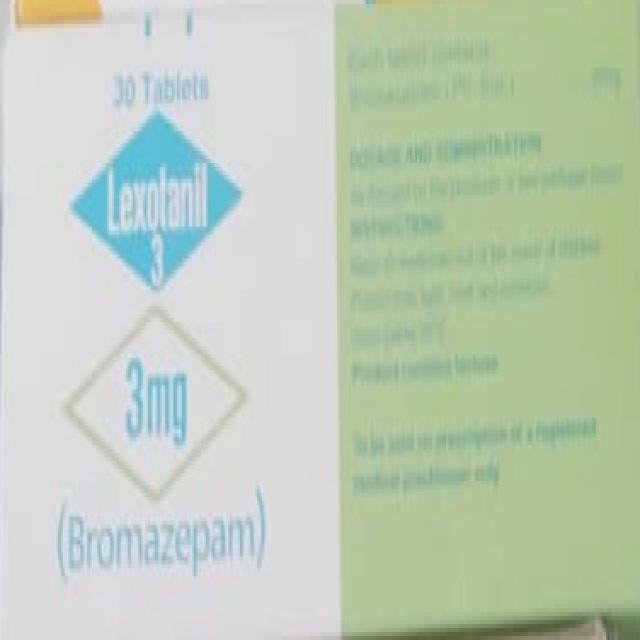drug-name: (102, 162, 210, 282)
